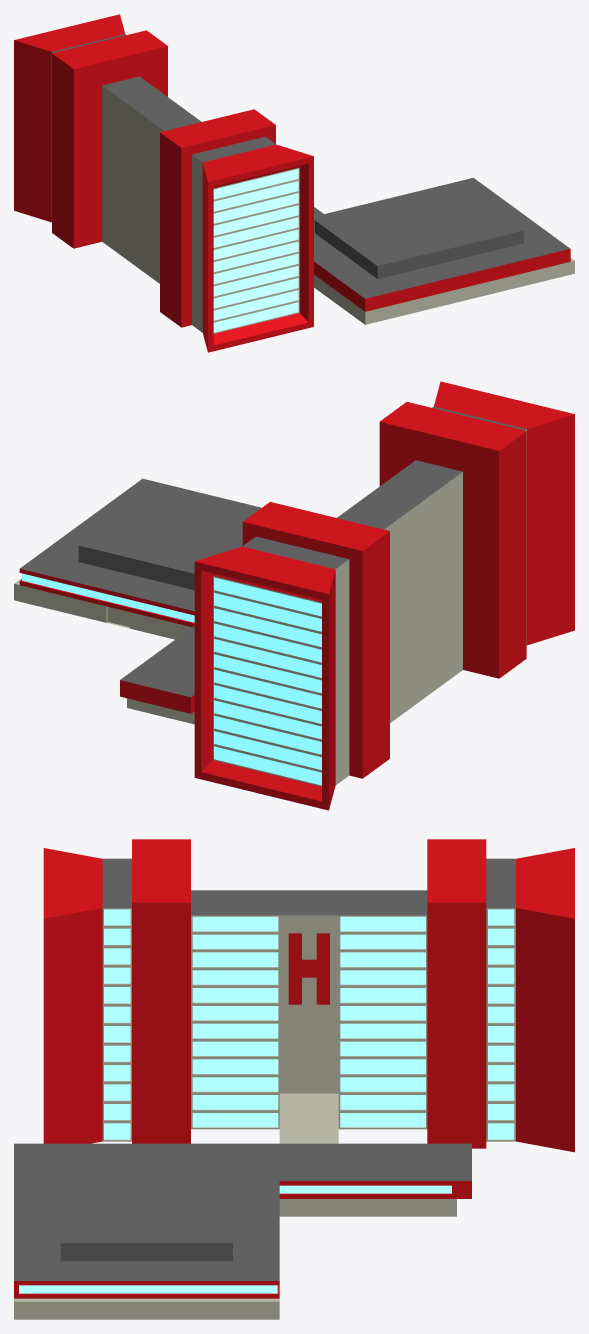
Rendered from hospital2.0.fbx.
3 renders of one model, top to bottom at view 1: azimuth 30°, elevation 25°; view 2: azimuth 150°, elevation 25°; view 3: azimuth 270°, elevation 25°, orthographic. The views are drawn at different scales.
Parts seen in each view (by area): view 1: Cube; view 2: Cube; view 3: Cube.
Boxes of the visible parts, left/top/right/bottom form: Cube: left=14, top=14, right=574, bottom=352; Cube: left=14, top=381, right=574, bottom=810; Cube: left=14, top=839, right=574, bottom=1319.
Size of the model in its own units: 1908 by 919 by 1900.
